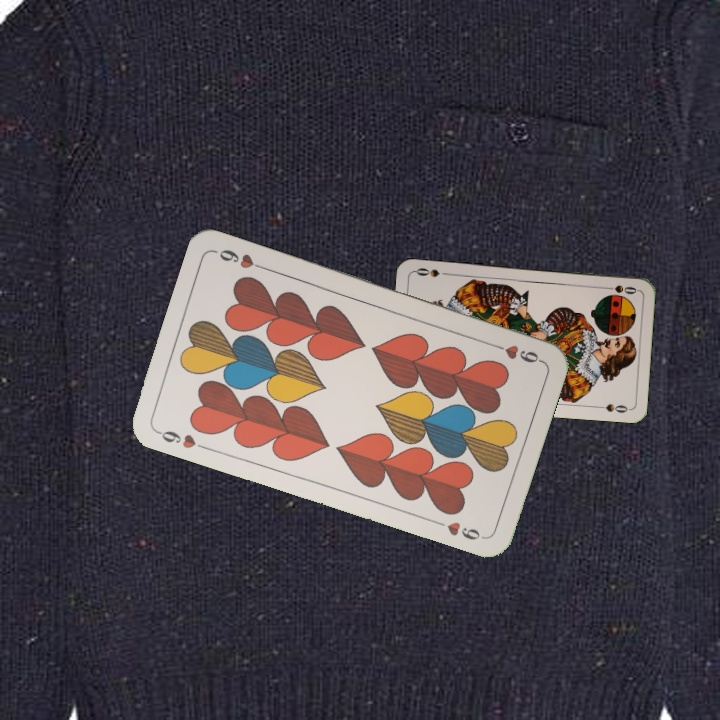H9: (486, 339, 544, 366), (152, 426, 210, 453)
SO: (599, 281, 640, 297)
